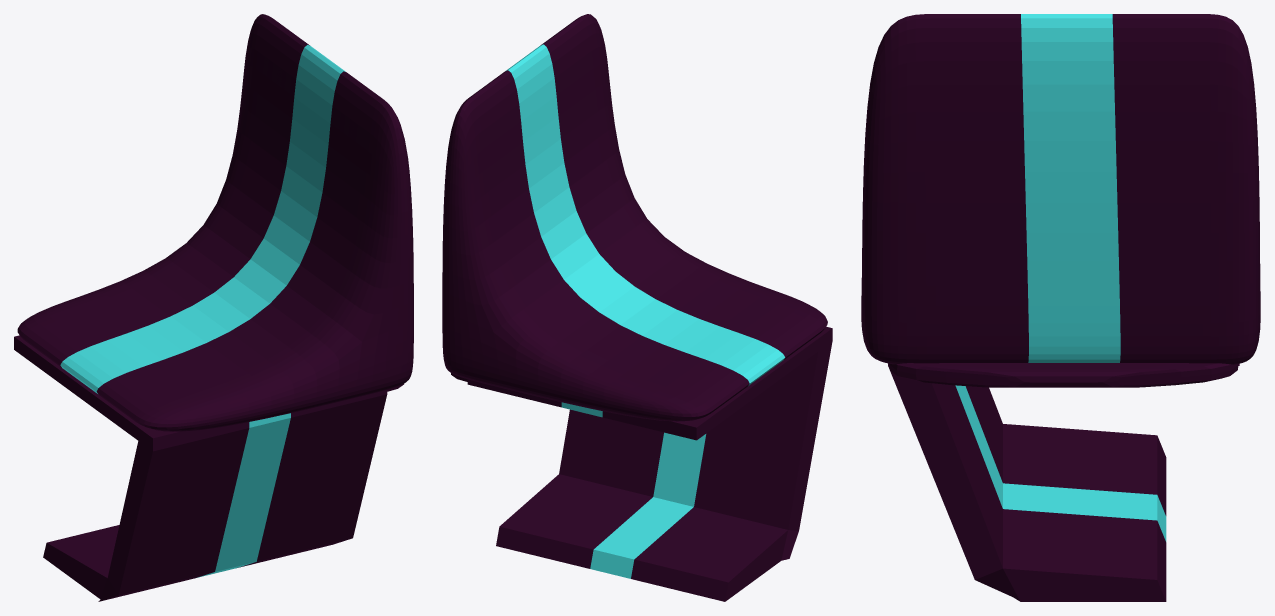
The model's file is ggj2019chair.fbx.
The picture shows the model from 3 angles, left to right: view 1: azimuth 30°, elevation 25°; view 2: azimuth 150°, elevation 25°; view 3: azimuth 270°, elevation 25°; orthographic projection. The views are drawn at different scales.
Parts seen in each view (by area): view 1: Cube.006, Cube.002; view 2: Cube.006, Cube.002; view 3: Cube.006, Cube.002, Cube.004.
Part boxes in pixels (bbox=[...]): Cube.006: bbox=[17, 14, 413, 431]; Cube.002: bbox=[14, 335, 387, 601]; Cube.006: bbox=[442, 14, 827, 421]; Cube.002: bbox=[467, 326, 832, 601]; Cube.006: bbox=[861, 14, 1260, 364]; Cube.002: bbox=[888, 363, 1239, 601]; Cube.004: bbox=[889, 363, 1238, 387].
Size of the model in its own units: 301 by 482 by 294.
